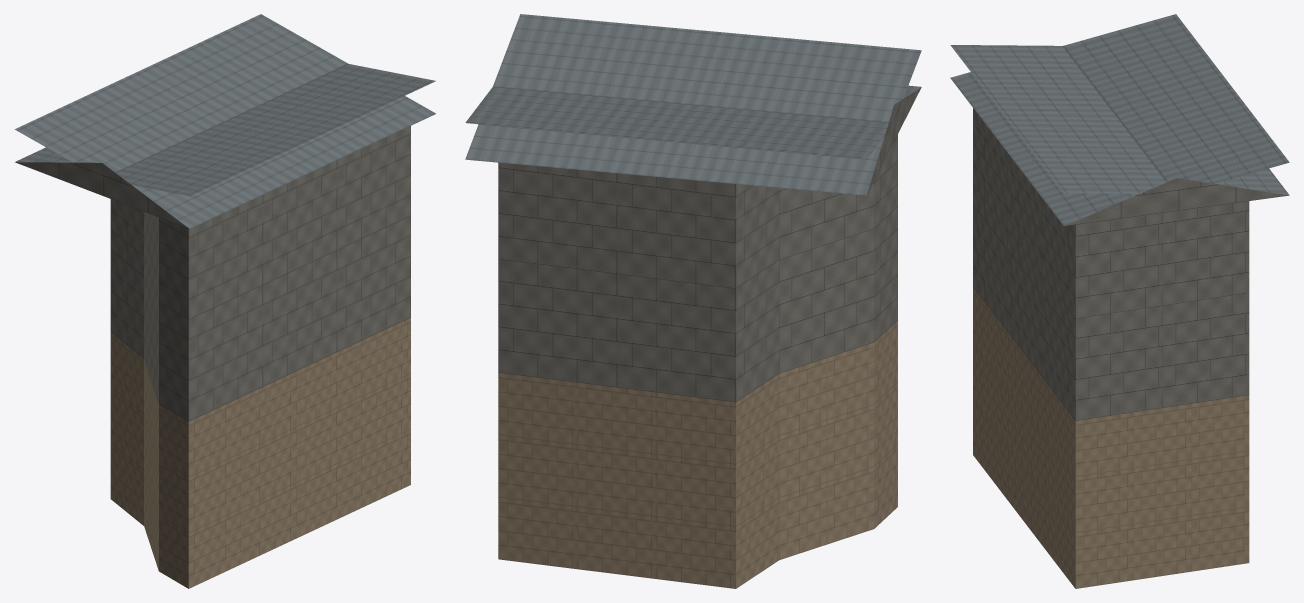
Rendered from bld_c30_-25_543.gltf.
The picture shows the model from 3 angles, left to right: view 1: azimuth 30°, elevation 25°; view 2: azimuth 150°, elevation 25°; view 3: azimuth 270°, elevation 25°; orthographic projection. The views are drawn at different scales.
Parts seen in each view (by area): view 1: bld_c30_-25_543; view 2: bld_c30_-25_543; view 3: bld_c30_-25_543.
Boxes of the visible parts, x1,y1,x2,y2 form: bld_c30_-25_543: [15, 14, 435, 588]; bld_c30_-25_543: [465, 14, 921, 588]; bld_c30_-25_543: [950, 14, 1289, 588].
Size of the model in its own units: 11.68 by 12.3 by 9.35.
4 materials, 4 textured.
